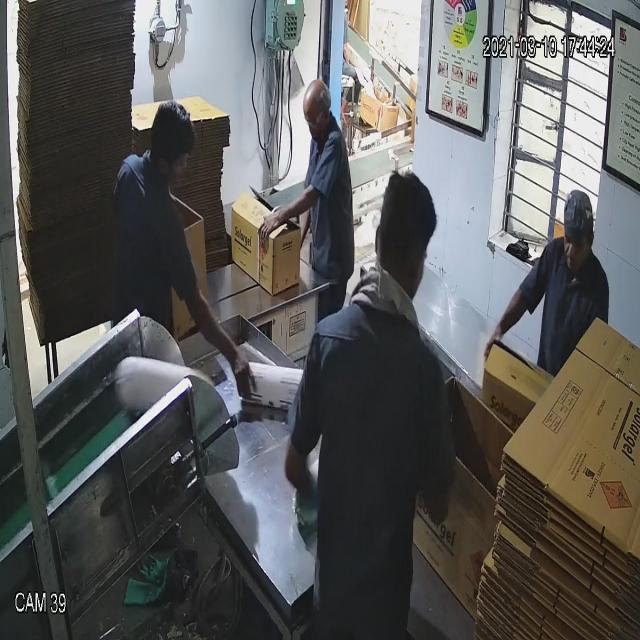No_Gloves: (46, 62, 505, 342)
